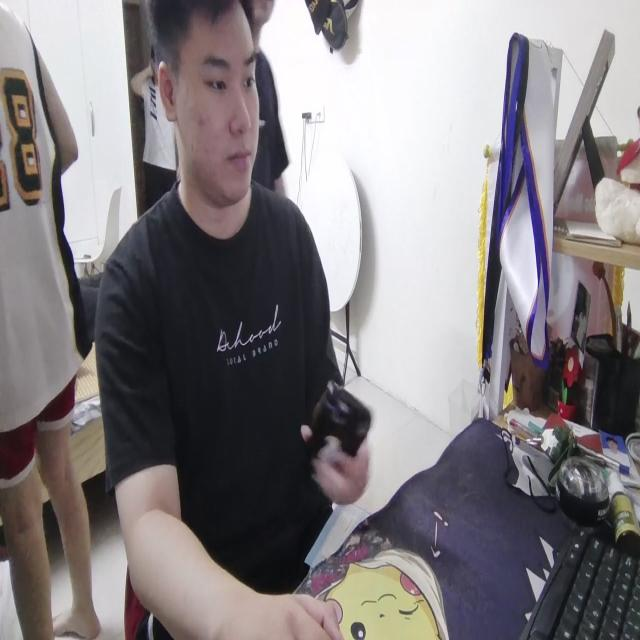extra_person: (0, 10, 95, 640), (248, 0, 292, 210), (134, 50, 183, 207)
phone: (300, 380, 368, 475)
student: (93, 0, 370, 640)
